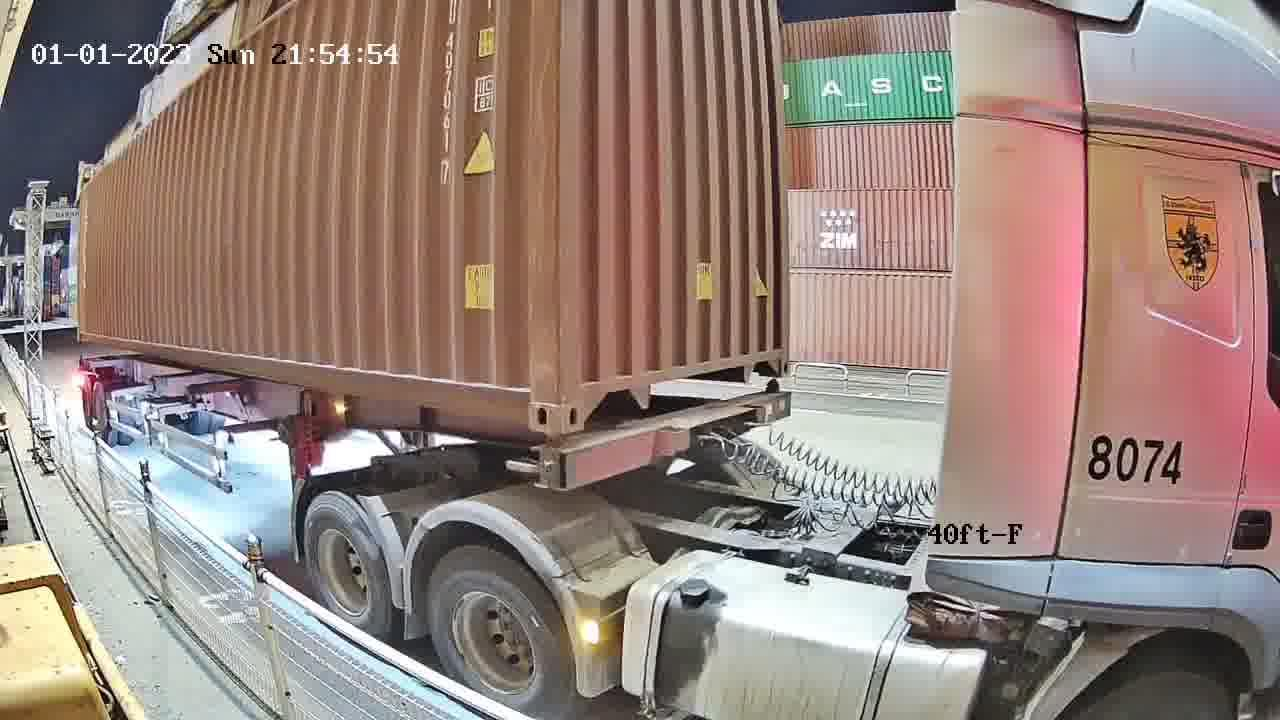Chassis: (538, 389, 792, 484)
Cone: (524, 436, 570, 493), (762, 379, 785, 414)
Hole_L: (562, 367, 613, 433)
Hole_R: (508, 362, 562, 433), (753, 327, 792, 379)
Tire: (428, 549, 575, 716), (304, 497, 390, 628)
